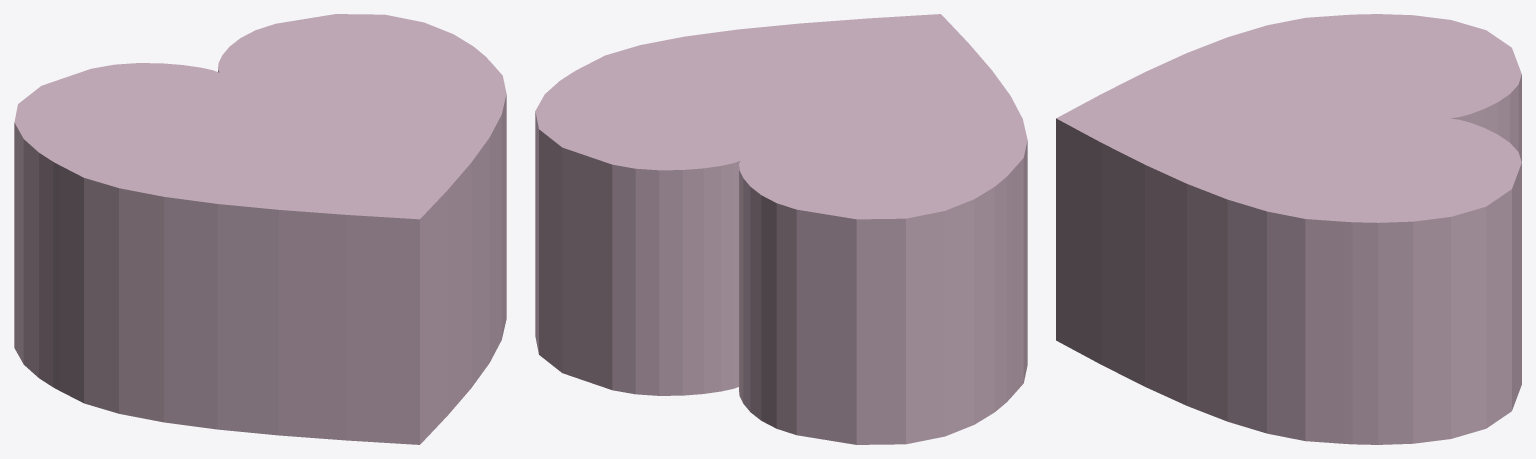
File: Heart.glb
The picture shows the model from 3 angles, left to right: view 1: azimuth 30°, elevation 25°; view 2: azimuth 150°, elevation 25°; view 3: azimuth 270°, elevation 25°; orthographic projection.
Visible parts, largest first — view 1: Mesh_Mesh_head_geo.001_lambert2SG.001; view 2: Mesh_Mesh_head_geo.001_lambert2SG.001; view 3: Mesh_Mesh_head_geo.001_lambert2SG.001.
Boxes of the visible parts, x1,y1,x2,y2 form: Mesh_Mesh_head_geo.001_lambert2SG.001: (14,14,506,444); Mesh_Mesh_head_geo.001_lambert2SG.001: (535,14,1027,444); Mesh_Mesh_head_geo.001_lambert2SG.001: (1056,14,1521,444).
Bounding box in the file's own units: 0.0202 × 0.01 × 0.019.
